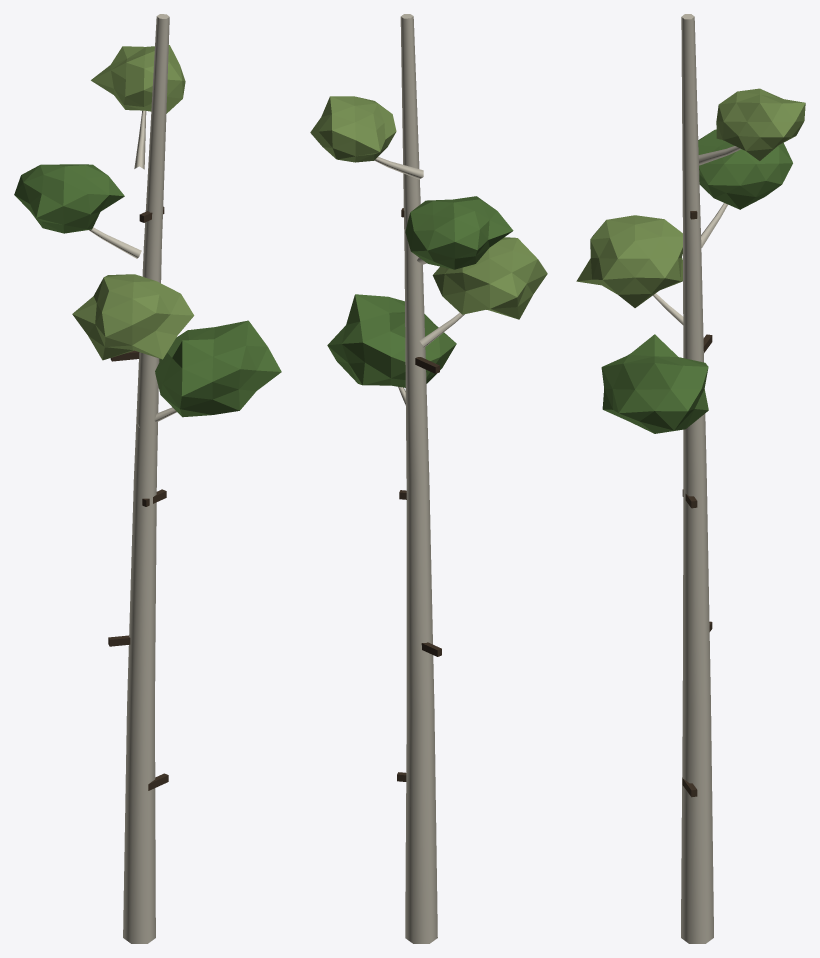
The model's file is land-forest-04.glb.
The picture shows the model from 3 angles, left to right: view 1: azimuth 30°, elevation 25°; view 2: azimuth 150°, elevation 25°; view 3: azimuth 270°, elevation 25°; orthographic projection.
Parts seen in each view (by area): view 1: land.forest.04; view 2: land.forest.04; view 3: land.forest.04.
Part boxes in pixels (x1,y1,x2,y2): land.forest.04: (14,14,281,943); land.forest.04: (310,14,547,943); land.forest.04: (576,14,805,943).
Size of the model in its own units: 1.44 by 6.3 by 1.41.
